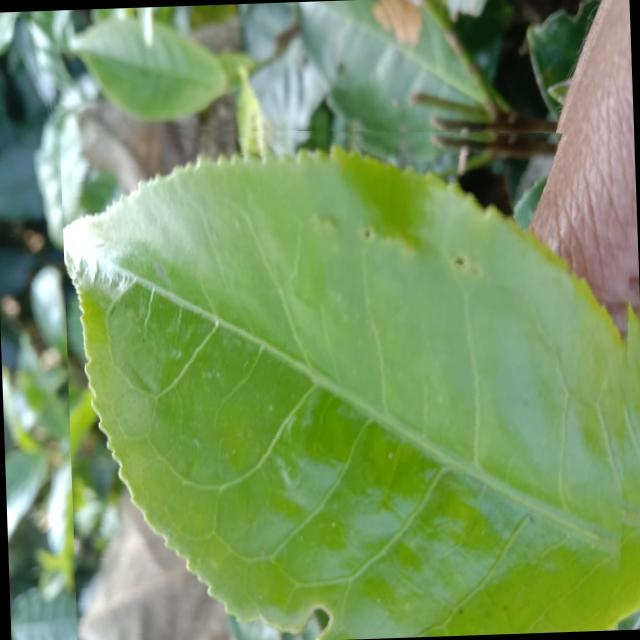Category B(2-4 days): (59, 107, 640, 640)
